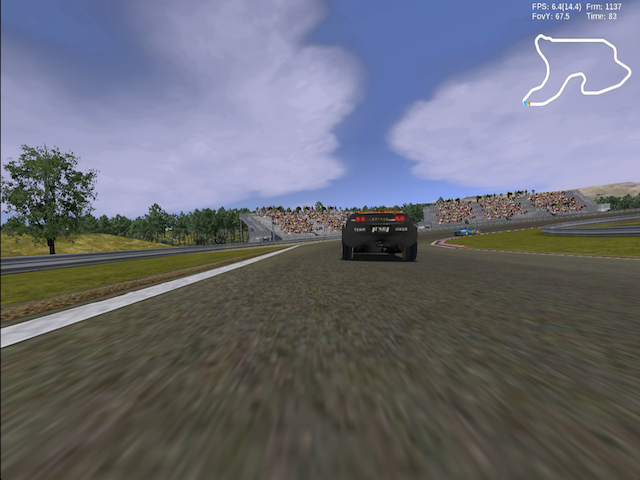Lynx220: (452, 227, 482, 237)
Spirit300: (341, 210, 418, 263)
